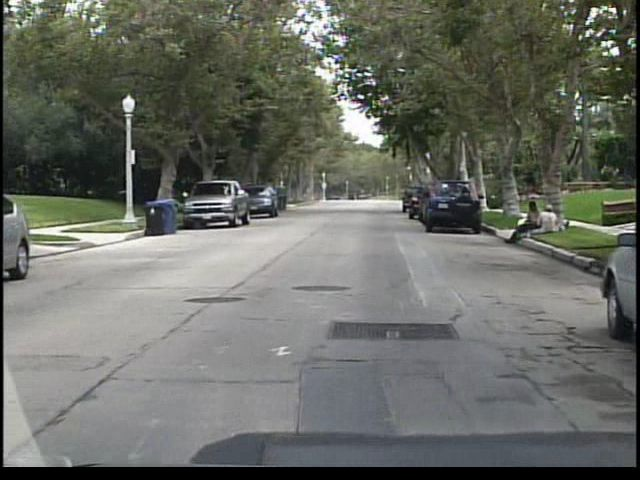person: (507, 198, 544, 245), (534, 205, 559, 233)
